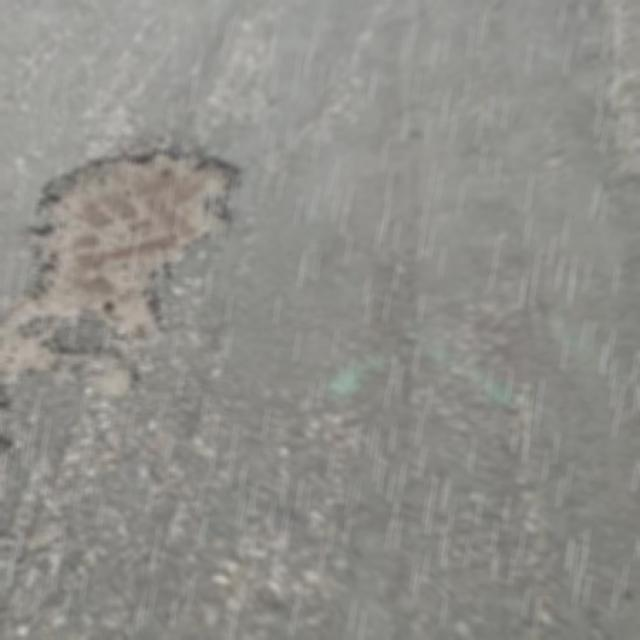road-pothole: (34, 143, 237, 343)
